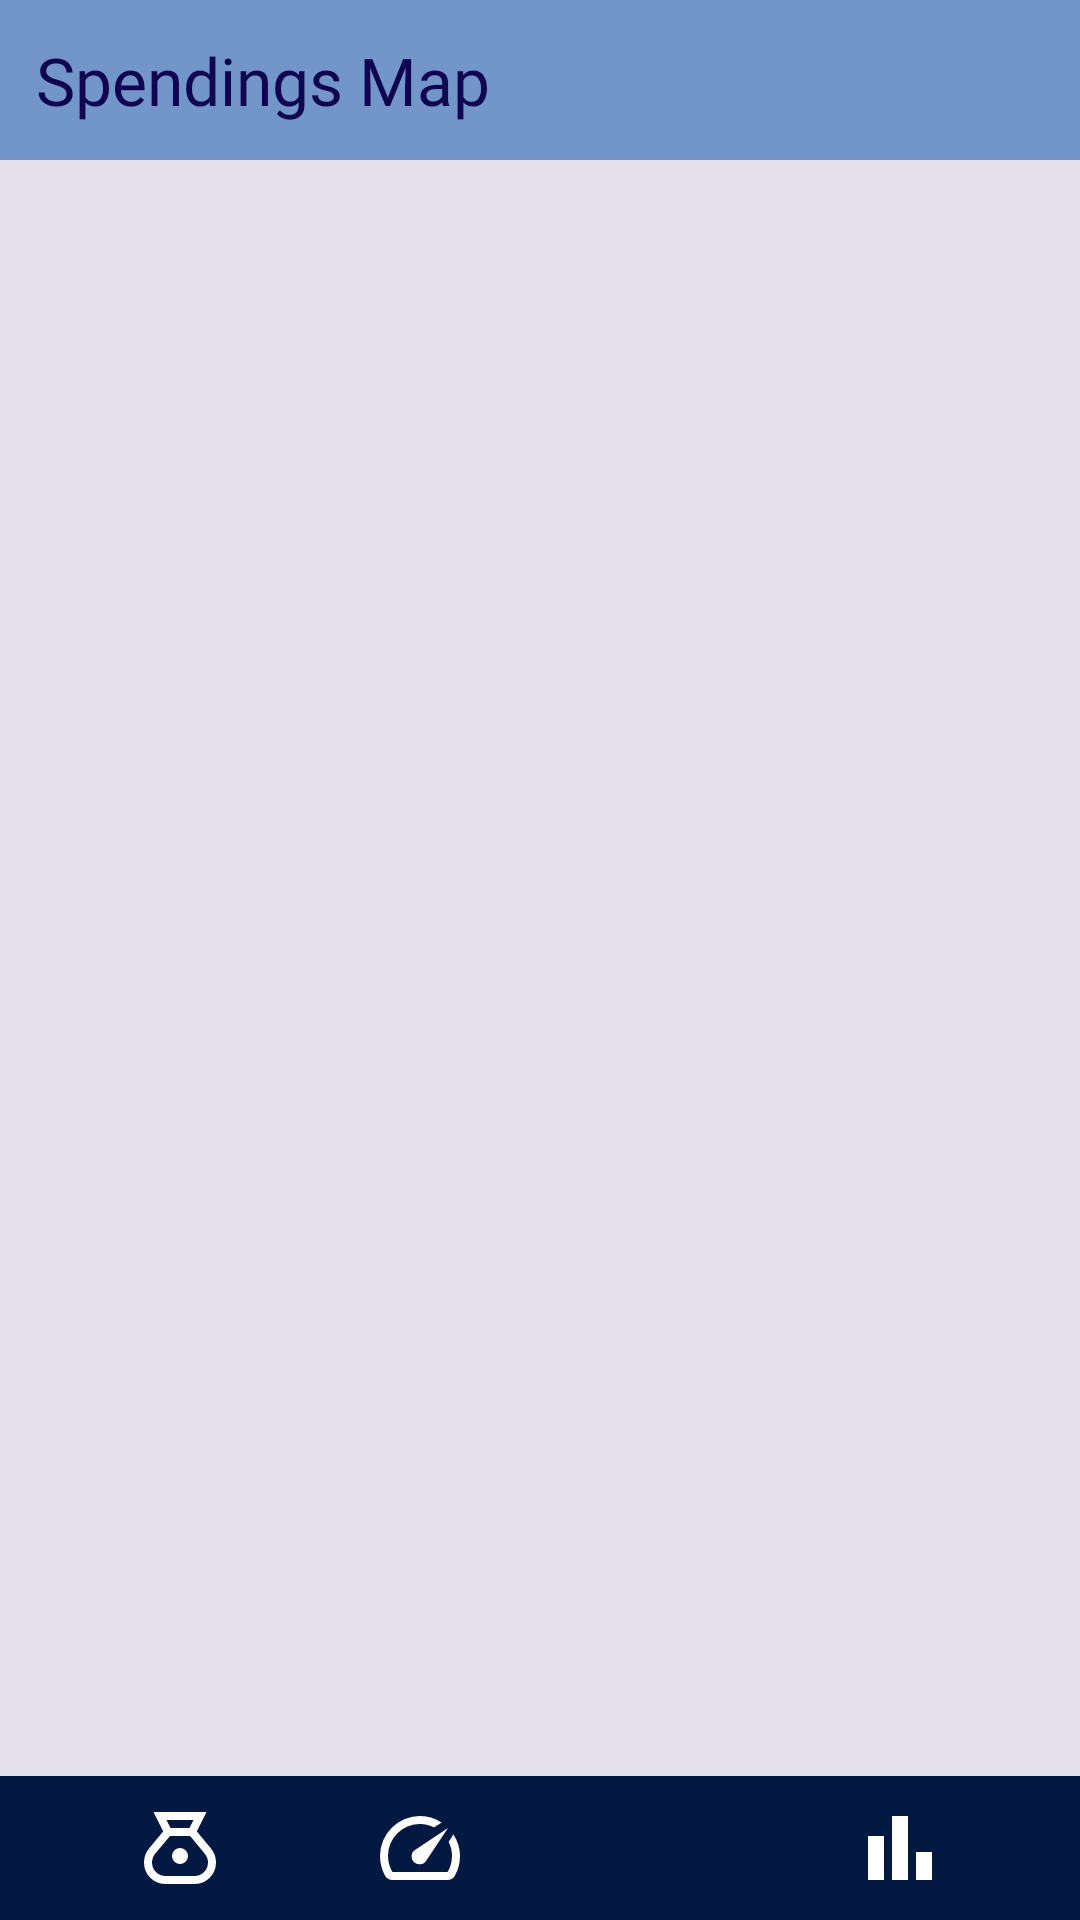

Named icons in this screenshot (1080px x 1920px) and their bounding boxes, bbox=(x1, y1, x2, y2):
navigationbar barchart: bbox=(868, 1816, 932, 1880)
navigationbar meter: bbox=(380, 1816, 460, 1880)
navigationbar moneybag: bbox=(144, 1812, 216, 1884)
